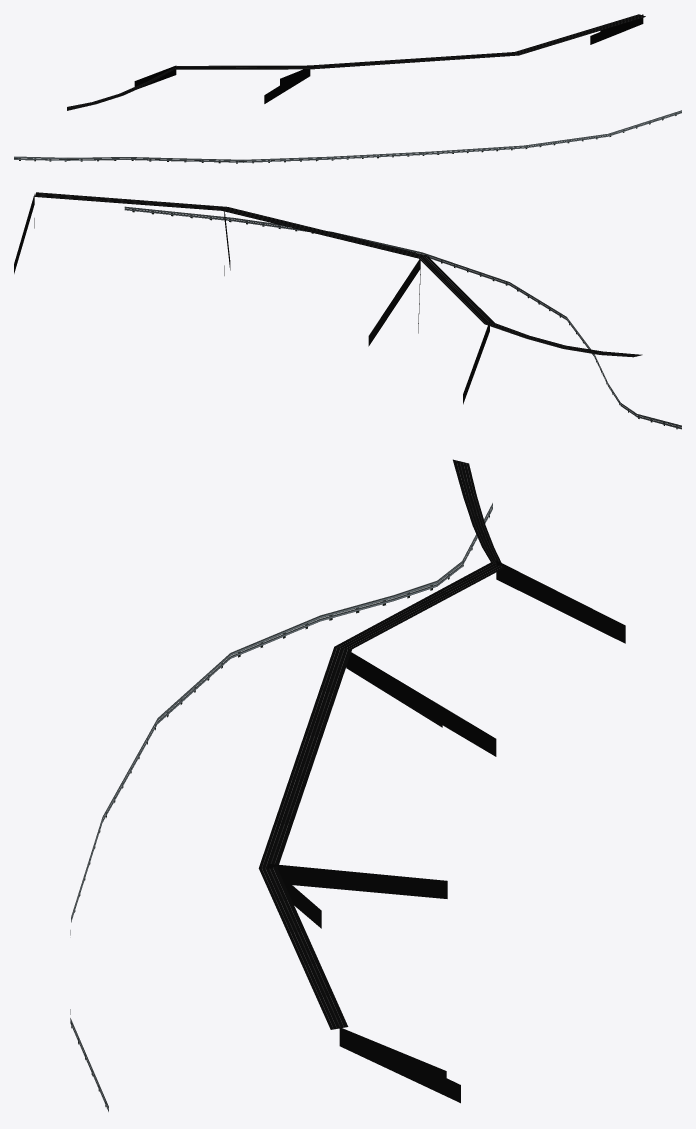
Rendered from cemulwire01.obj.
3 views of the same model, one above another, from view 1: azimuth 30°, elevation 25°; view 2: azimuth 150°, elevation 25°; view 3: azimuth 270°, elevation 25° (orthographic). The views are drawn at different scales.
Parts seen in each view (by area): view 1: CEmulwire01; view 2: CEmulwire01; view 3: CEmulwire01.
Boxes of the visible parts, x1,y1,x2,y2 form: CEmulwire01: (14,14,681,163); CEmulwire01: (14,192,681,429); CEmulwire01: (70,459,625,1111).
Bounding box in the file's own units: 142 × 18.43 × 57.69.
